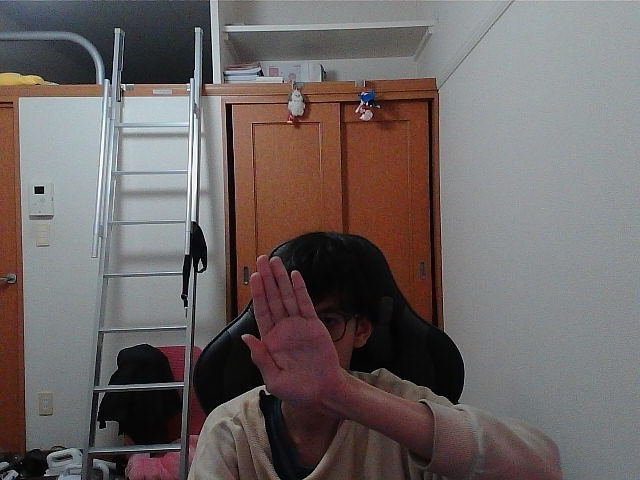open_palm: (249, 265, 315, 389)
